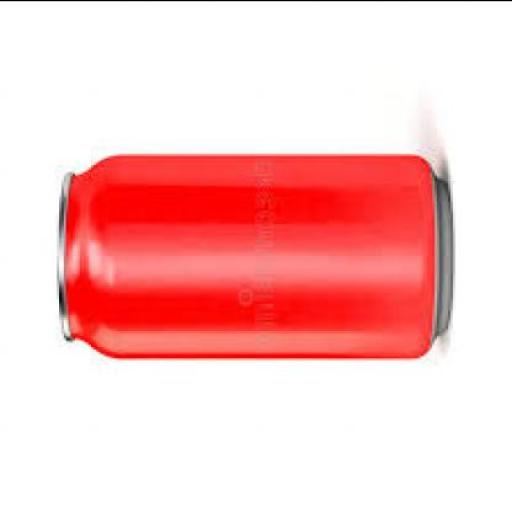metal: (52, 152, 449, 354)
